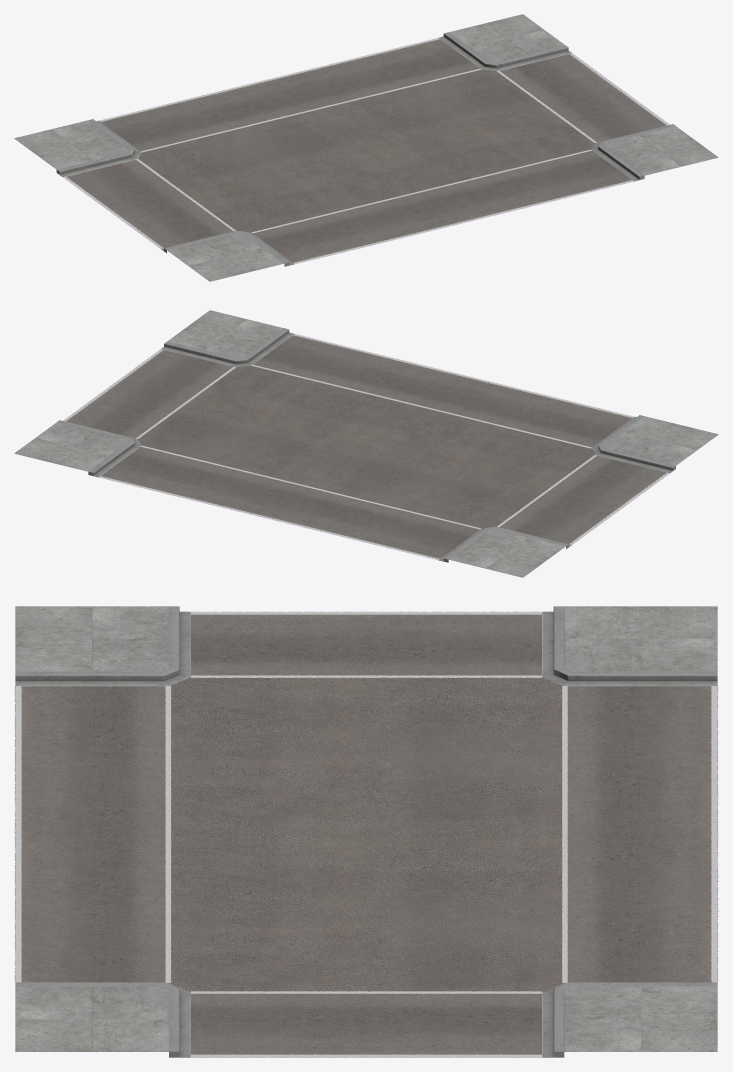
The model's file is Intersection_4x2_lane.fbx.
3 views of the same model, one above another, from view 1: azimuth 30°, elevation 25°; view 2: azimuth 150°, elevation 25°; view 3: azimuth 270°, elevation 25° (orthographic). The views are drawn at different scales.
Parts seen in each view (by area): view 1: Intersection_4x2_lane; view 2: Intersection_4x2_lane; view 3: Intersection_4x2_lane.
Part boxes in pixels (x1,y1,x2,y2): Intersection_4x2_lane: (14, 14, 718, 281); Intersection_4x2_lane: (14, 310, 718, 577); Intersection_4x2_lane: (14, 606, 718, 1057).
Size of the model in its own units: 2405 by 15.04 by 1605.
